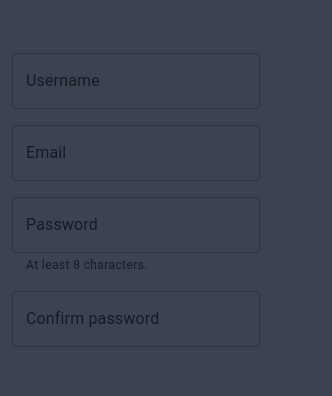
Test: EmailSignupForm › rejects mismatched passwords before hitting the API
This screenshot has width=332, height=396.
Type "alice" into the field labelled "Username" at (136, 80), box [12,52,260,108]
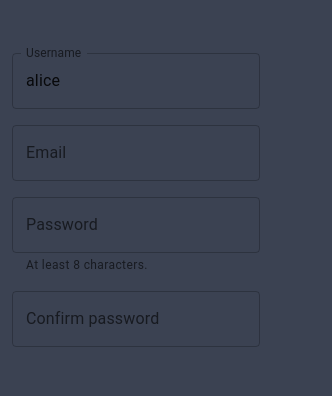
Type "alice@example.com" into the field labelled "Email" at (136, 152), box [12,124,260,180]
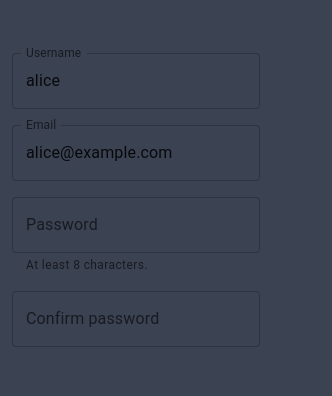
Type "abcdefgh" into the password field labelled "Password" at (136, 224), box [12,196,260,252]
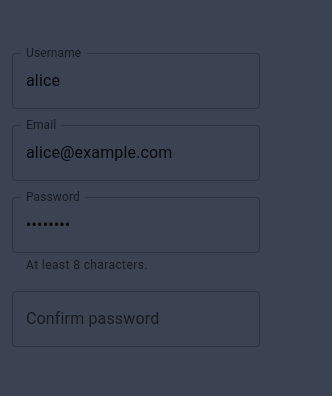
Type "different" into the password field labelled "Confirm password" at (136, 320), box [12,292,260,348]
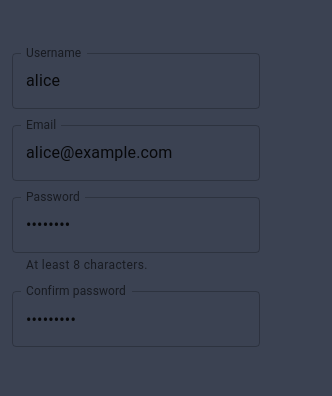
Submit the form labelled "Confirm password", box [12,52,260,347]
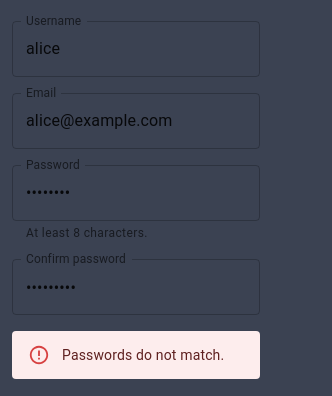
Check: the text "Passwords do not match." is shown, box [62,347,224,363]
